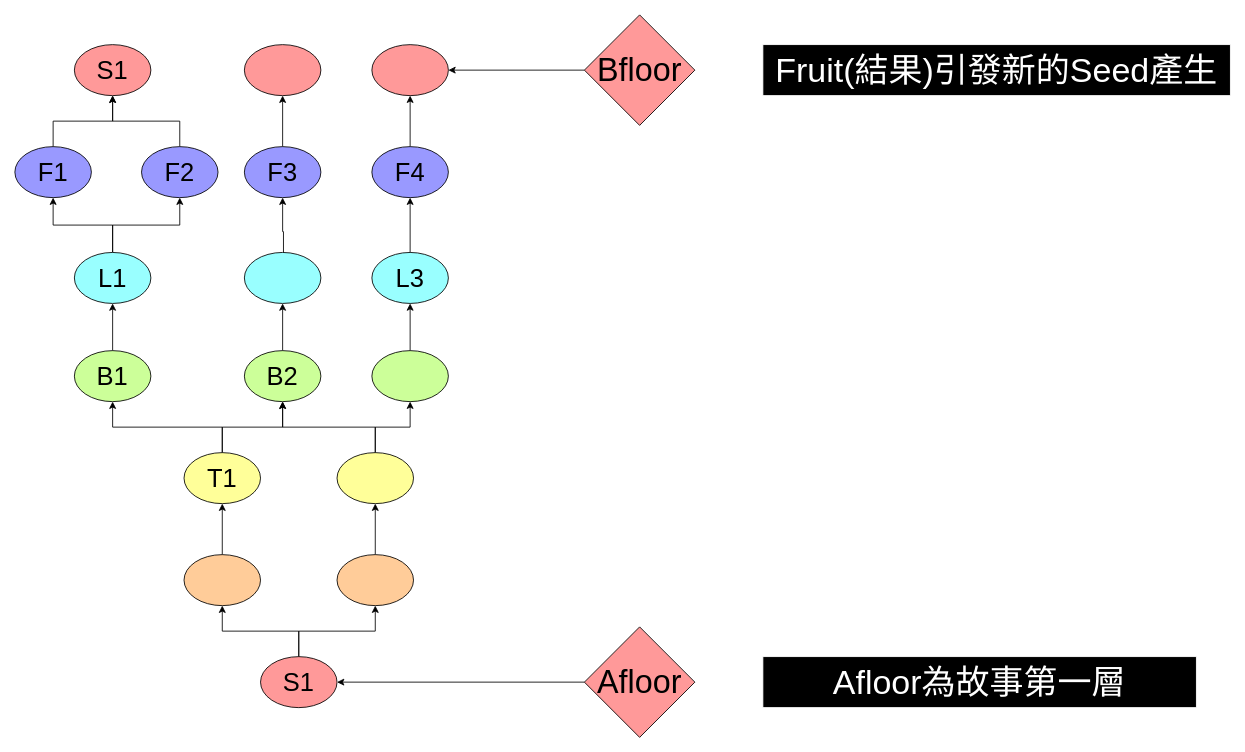
This 1245x752 diagram has some shape labels left out. The shapes that lost their labels are listed below. From the top down, each one's centre as x and y in pixels, then its label:
At pixel 282 70: "S2".
At pixel 409 70: "S3".
At pixel 282 277: "L2".
At pixel 409 376: "B3".
At pixel 375 478: "T2".
At pixel 222 580: "R1".
At pixel 375 580: "R2".
